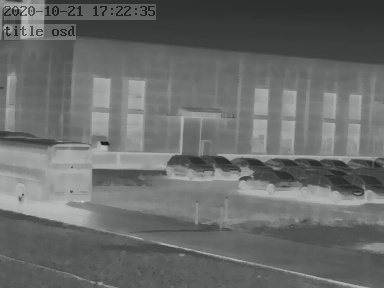vehicle: (2, 142, 103, 204), (302, 169, 364, 202), (238, 169, 303, 191), (164, 152, 213, 178), (349, 173, 382, 200), (205, 153, 242, 177), (233, 155, 270, 171), (262, 155, 296, 169), (347, 156, 380, 170), (295, 155, 324, 169), (318, 156, 347, 169)
